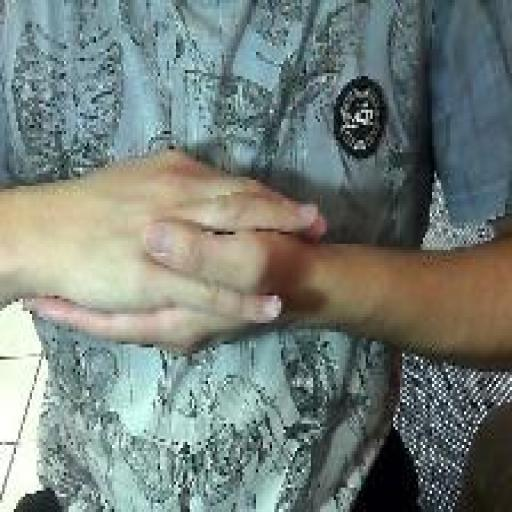Saru -monkey-: (15, 140, 332, 369)
